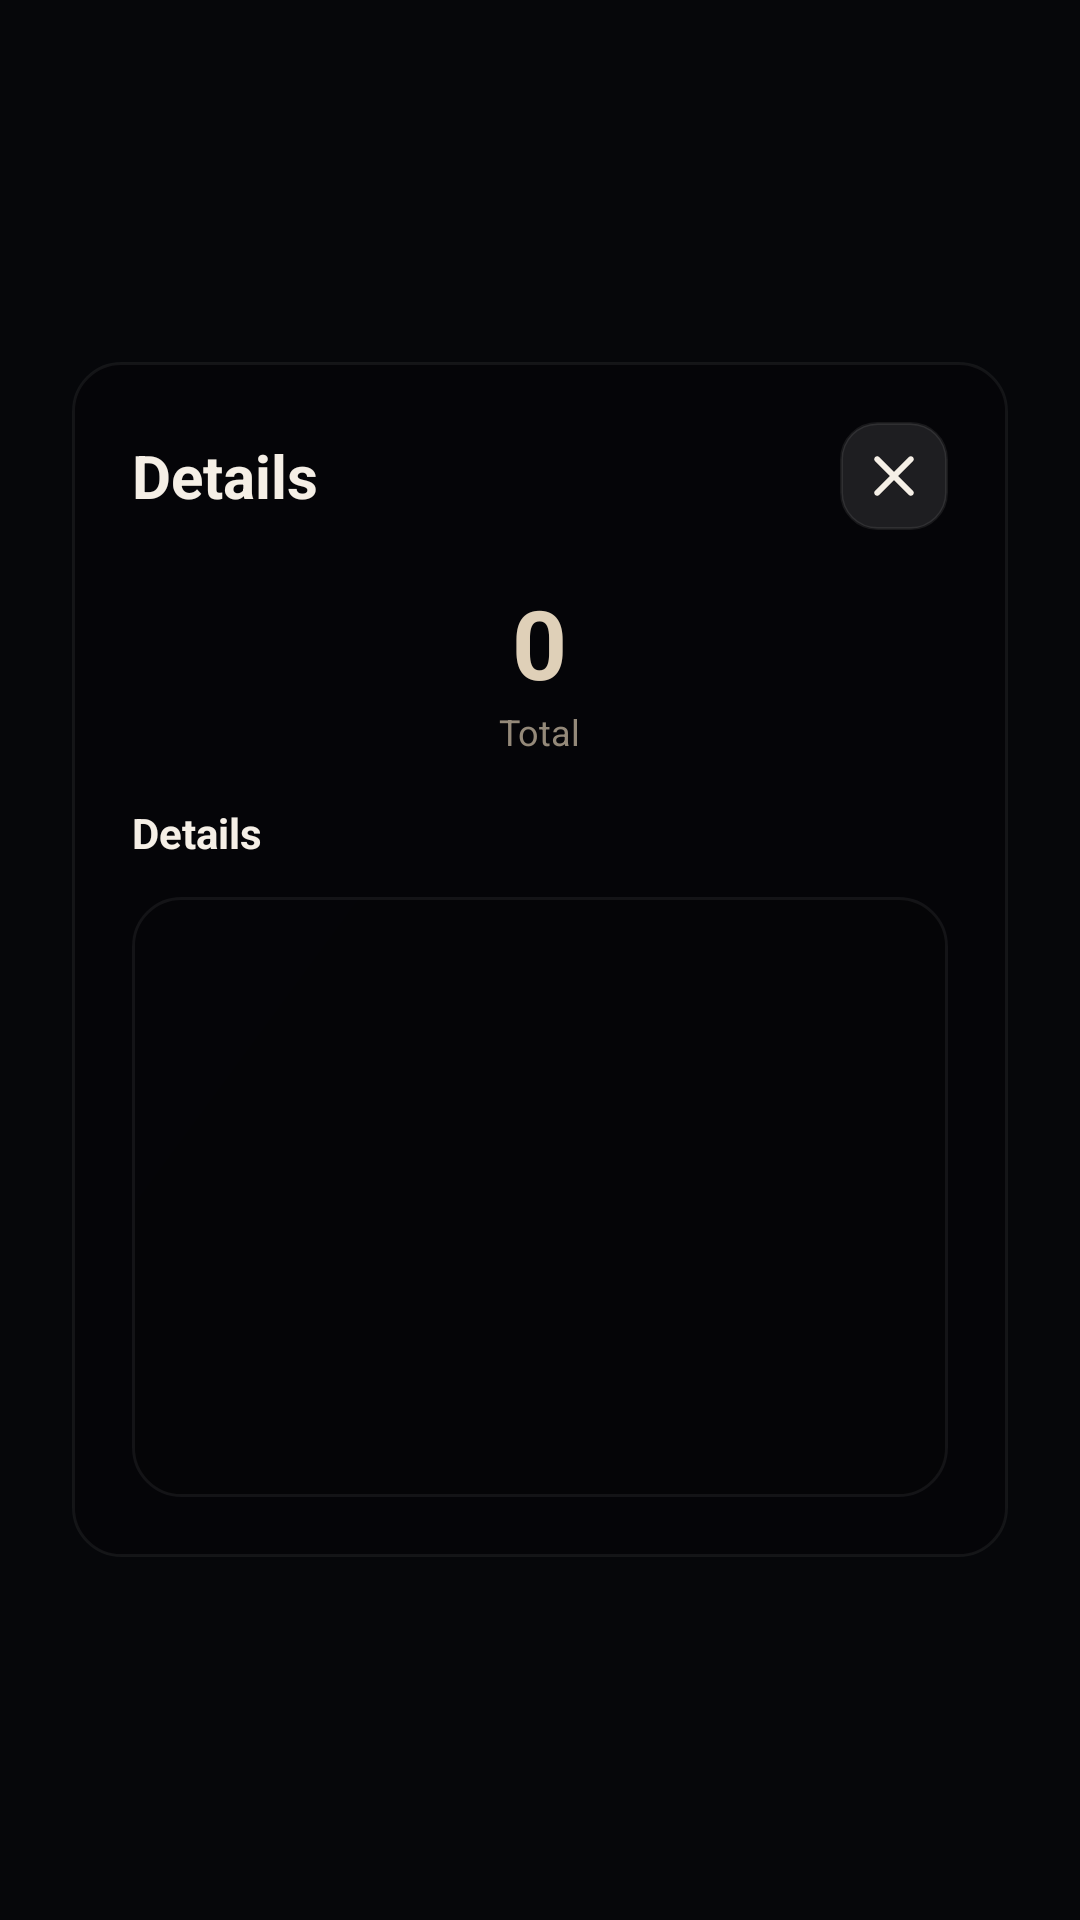

Locate icon controls on the screen. Image size 1080 × 1920, boxes as (x1, y1, x2, y2).
Close: (841, 423, 947, 529)
